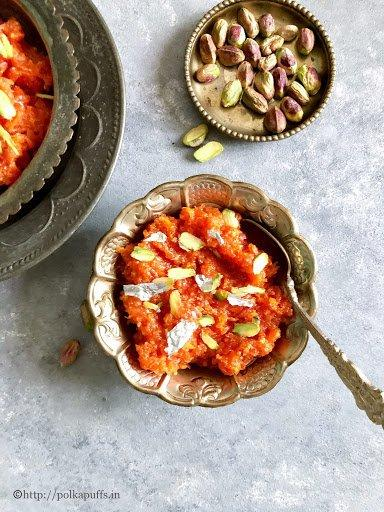Gajar ka halwa: (104, 171, 306, 401)
